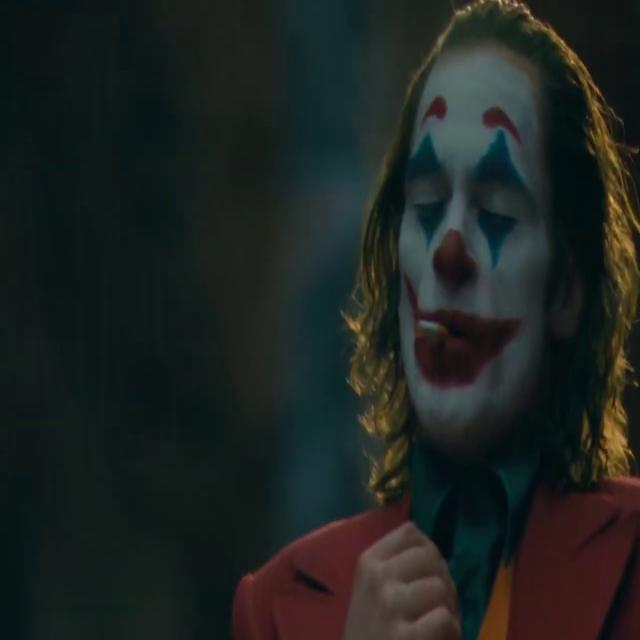Smooking: (414, 308, 448, 349)
